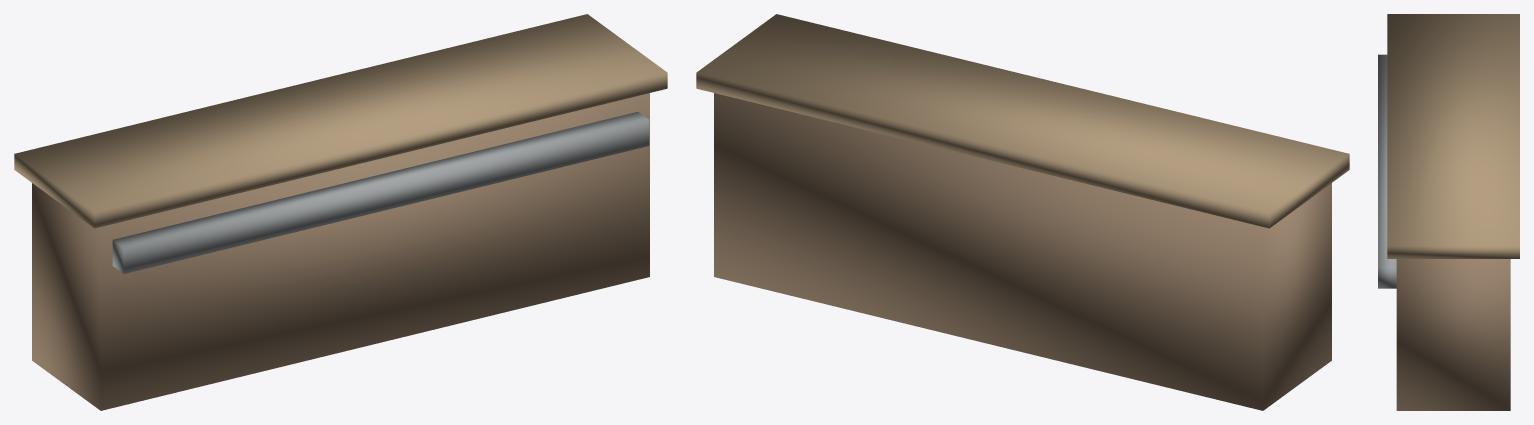
Rendered from bar_counter__wide.glb.
3 views of the same model, side by side, from view 1: azimuth 30°, elevation 25°; view 2: azimuth 150°, elevation 25°; view 3: azimuth 270°, elevation 25° (orthographic). The views are drawn at different scales.
Parts seen in each view (by area): view 1: world; view 2: world; view 3: world.
Part boxes in pixels (left/top/right/bottom): world: left=14, top=14, right=667, bottom=410; world: left=696, top=14, right=1349, bottom=410; world: left=1378, top=14, right=1519, bottom=410.
Size of the model in its own units: 2.98 by 1.02 by 0.77.
